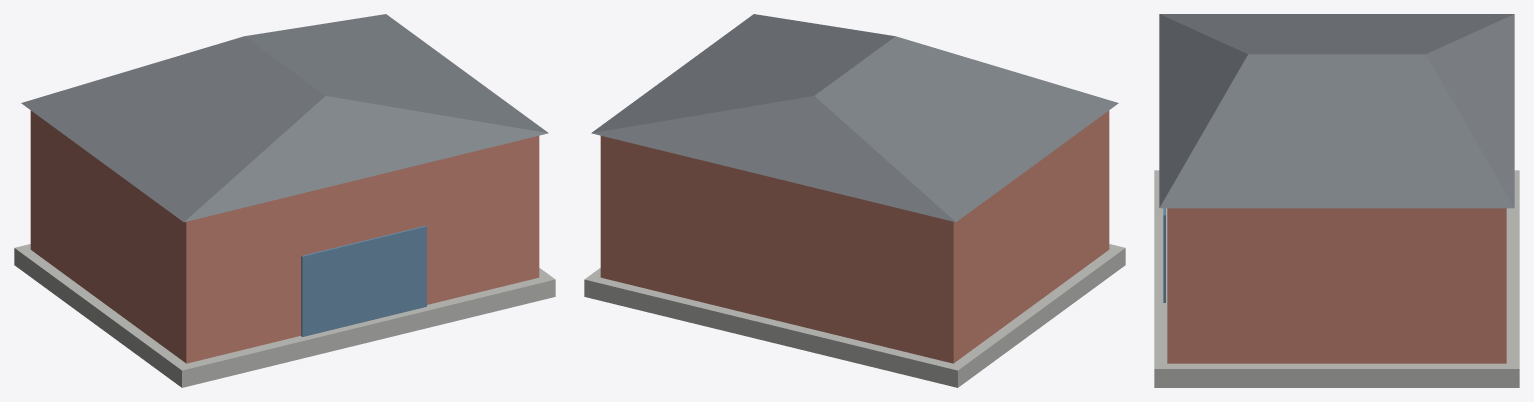
The model's file is library_municipal.glb.
The picture shows the model from 3 angles, left to right: view 1: azimuth 30°, elevation 25°; view 2: azimuth 150°, elevation 25°; view 3: azimuth 270°, elevation 25°; orthographic projection. The views are drawn at different scales.
Visible parts, largest first — view 1: library_municipal; view 2: library_municipal; view 3: library_municipal.
Boxes of the visible parts, left/top/right/bottom form: library_municipal: left=14, top=14, right=555, bottom=387; library_municipal: left=584, top=14, right=1125, bottom=387; library_municipal: left=1154, top=14, right=1519, bottom=387.
Size of the model in its own units: 18 by 9.9 by 14.
